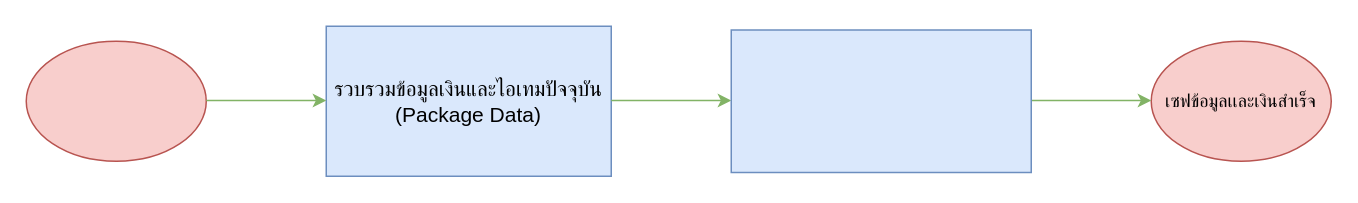
This 1358x203 diagram has some shape labels left out. Each missing label, with the centre of its shape:
"ผู้เล่นออกจากเซิร์ฟเวอร์ (PlayerRemoving)" belongs at point (115, 100).
"ส่งข้อมูลกลับไปบันทึกที่เซิร์ฟเวอร์(datastore:SetAsync)" belongs at point (880, 100).
